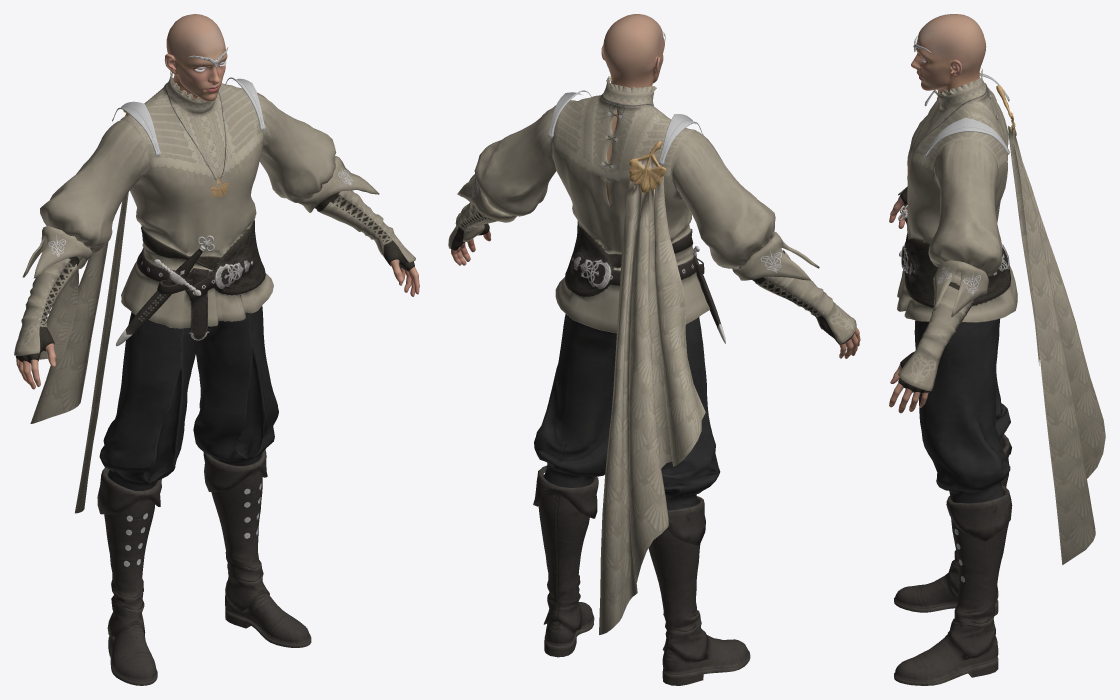
The picture shows the model from 3 angles, left to right: view 1: azimuth 30°, elevation 25°; view 2: azimuth 150°, elevation 25°; view 3: azimuth 270°, elevation 25°; orthographic projection. The views are drawn at different scales.
Parts seen in each view (by area): view 1: GM_0171_T02_Body, GM_0171_T02_Pants, GM_0171_T02_Boots, GM_0171_T02_Cape, GM_0171_T02_Glove, GM_BaseHead, GM_0171_T02_Shoulder; view 2: GM_0171_T02_Body, GM_0171_T02_Cape, GM_0171_T02_Boots, GM_0171_T02_Pants, GM_0171_T02_Glove, GM_BaseHead, GM_0171_T02_Shoulder; view 3: GM_0171_T02_Body, GM_0171_T02_Cape, GM_0171_T02_Boots, GM_0171_T02_Pants, GM_0171_T02_Glove, GM_BaseHead, GM_0171_T02_Shoulder.
Part boxes in pixels (x1,y1,x2,y2): GM_0171_T02_Body: (16,71,419,389); GM_0171_T02_Pants: (99,306,278,635); GM_0171_T02_Boots: (97,449,311,685); GM_0171_T02_Cape: (30,110,129,513); GM_0171_T02_Glove: (14,156,415,363); GM_BaseHead: (164,14,227,101); GM_0171_T02_Shoulder: (112,77,265,156); GM_0171_T02_Body: (450,76,860,358); GM_0171_T02_Cape: (599,140,705,634); GM_0171_T02_Boots: (533,465,750,685); GM_0171_T02_Pants: (534,314,720,623); GM_0171_T02_Glove: (448,174,856,344); GM_BaseHead: (601,14,664,87); GM_0171_T02_Shoulder: (548,90,703,165); GM_0171_T02_Body: (889,68,1017,413); GM_0171_T02_Cape: (996,85,1105,565); GM_0171_T02_Boots: (894,434,1012,685); GM_0171_T02_Pants: (914,318,1010,606); GM_0171_T02_Glove: (898,186,988,393); GM_BaseHead: (911,14,986,93); GM_0171_T02_Shoulder: (924,73,1009,157).
Bounding box in the file's own units: 1.25 × 1.89 × 0.595.
Materials: 10 (9 with a texture image).
